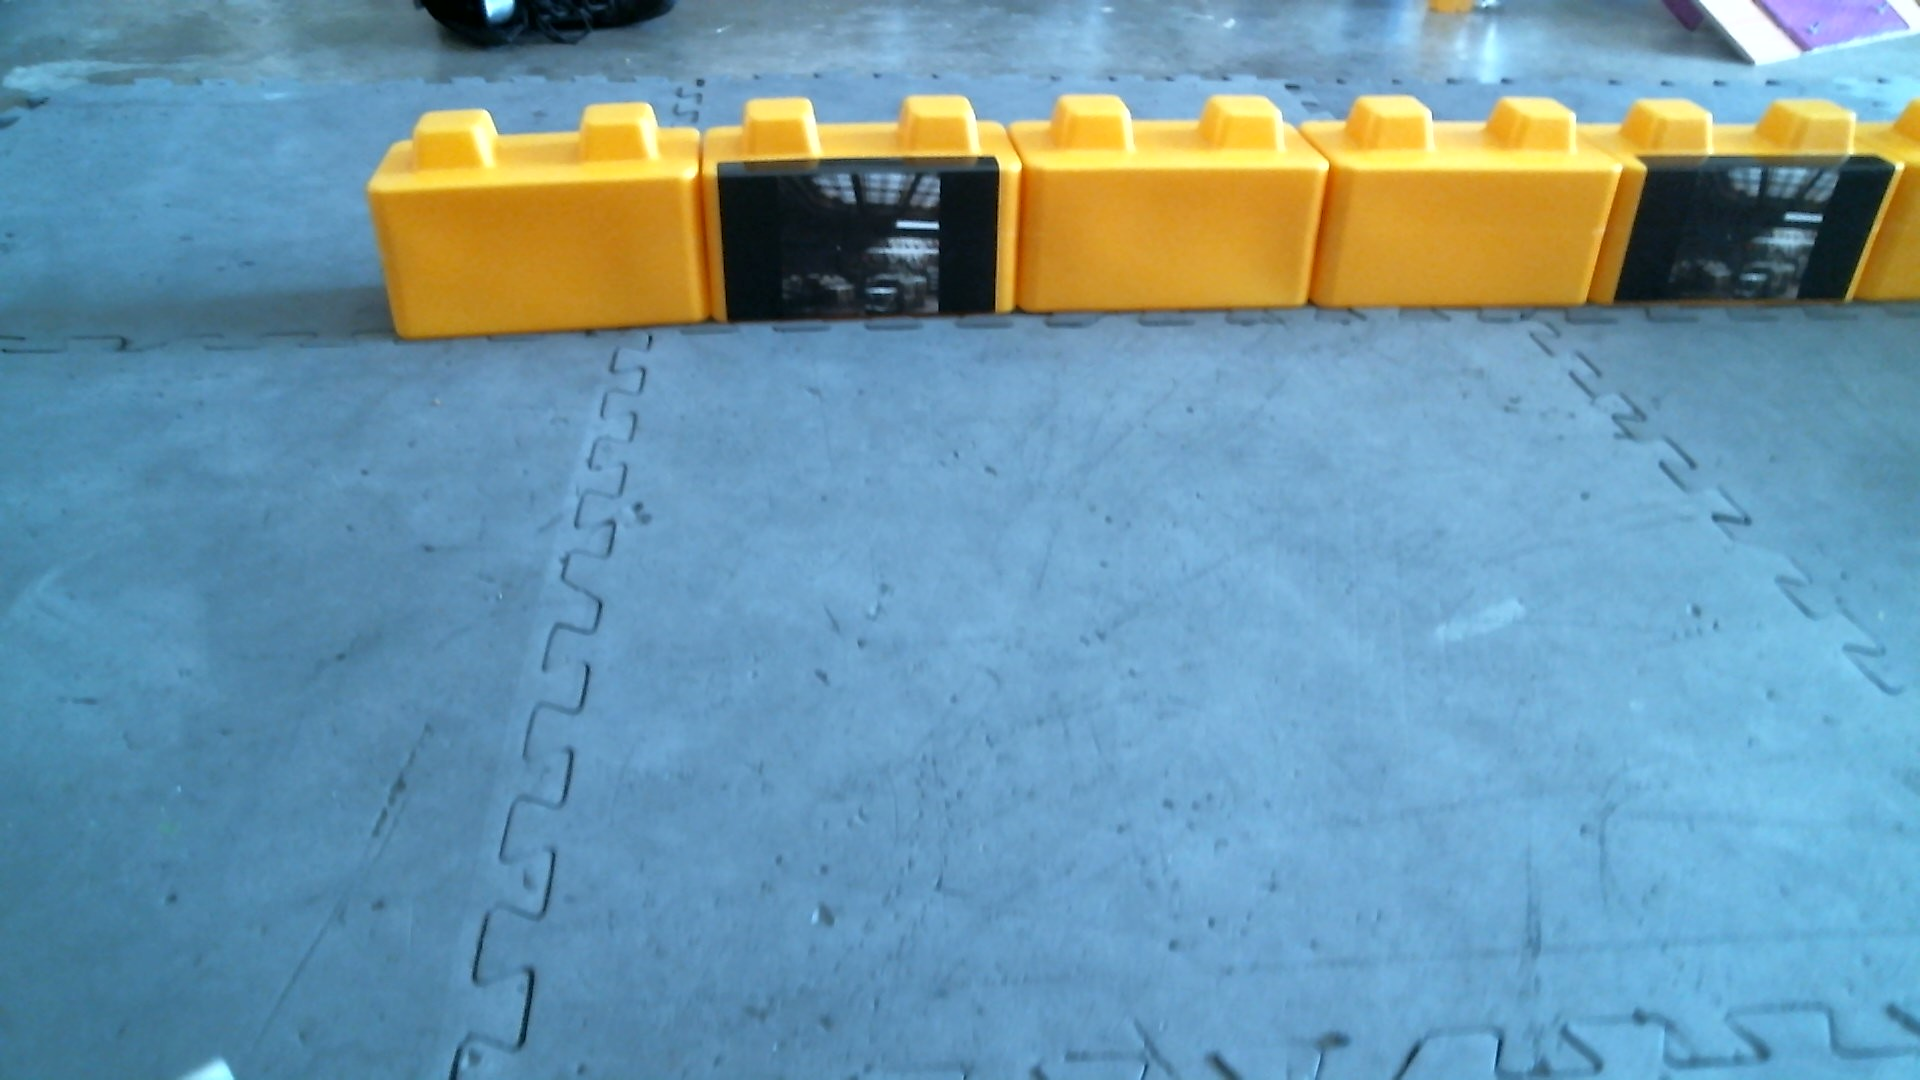skystone: (715, 95, 1010, 332), (1614, 100, 1896, 328)
stone: (375, 109, 703, 335), (1015, 98, 1328, 331), (1335, 95, 1614, 332)
